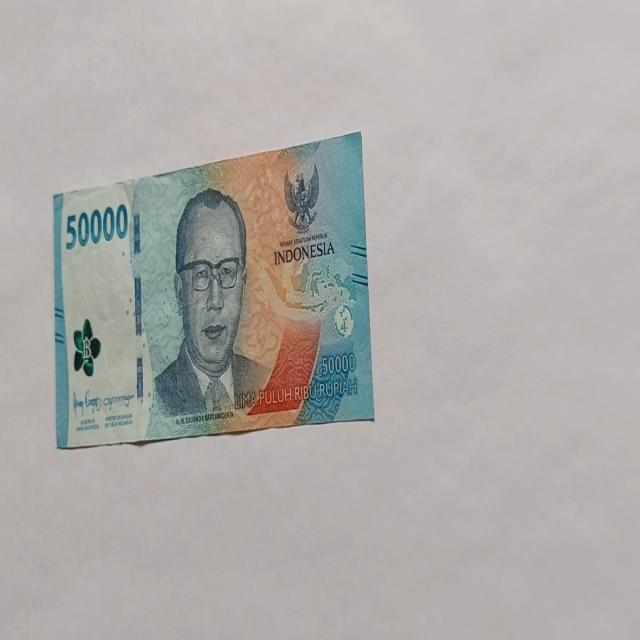lima puluh ribu rupiah: (52, 130, 376, 449), (148, 186, 271, 424)
